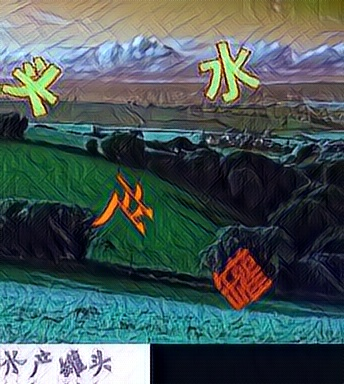B2FA: (90, 172, 154, 238)
B9DE: (207, 245, 271, 311)
CBAE: (198, 37, 262, 103)
CDB7: (2, 52, 66, 118)
